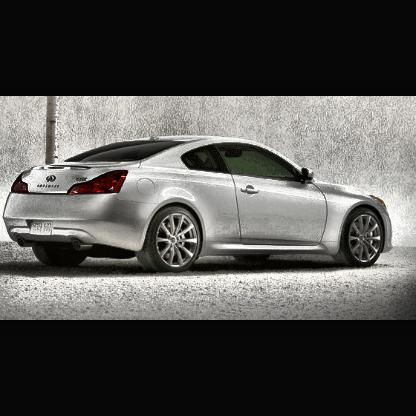Infiniti G Coupe IPL 2012: (2, 134, 394, 275)
